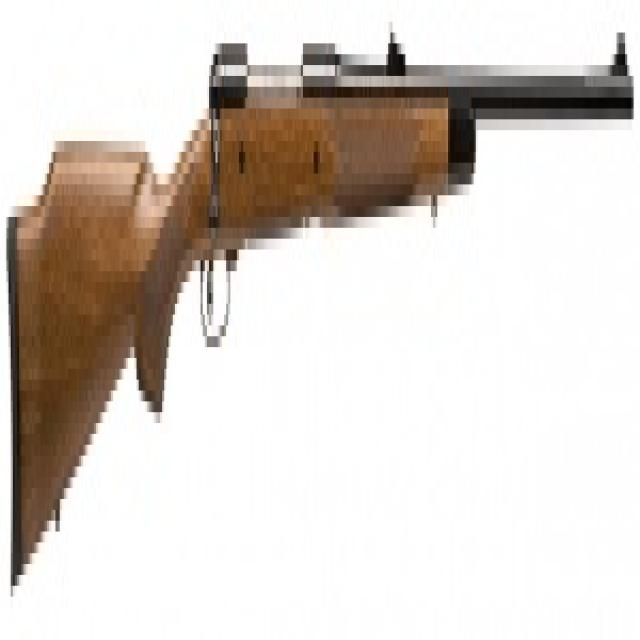rifle: (1, 1, 640, 608)
